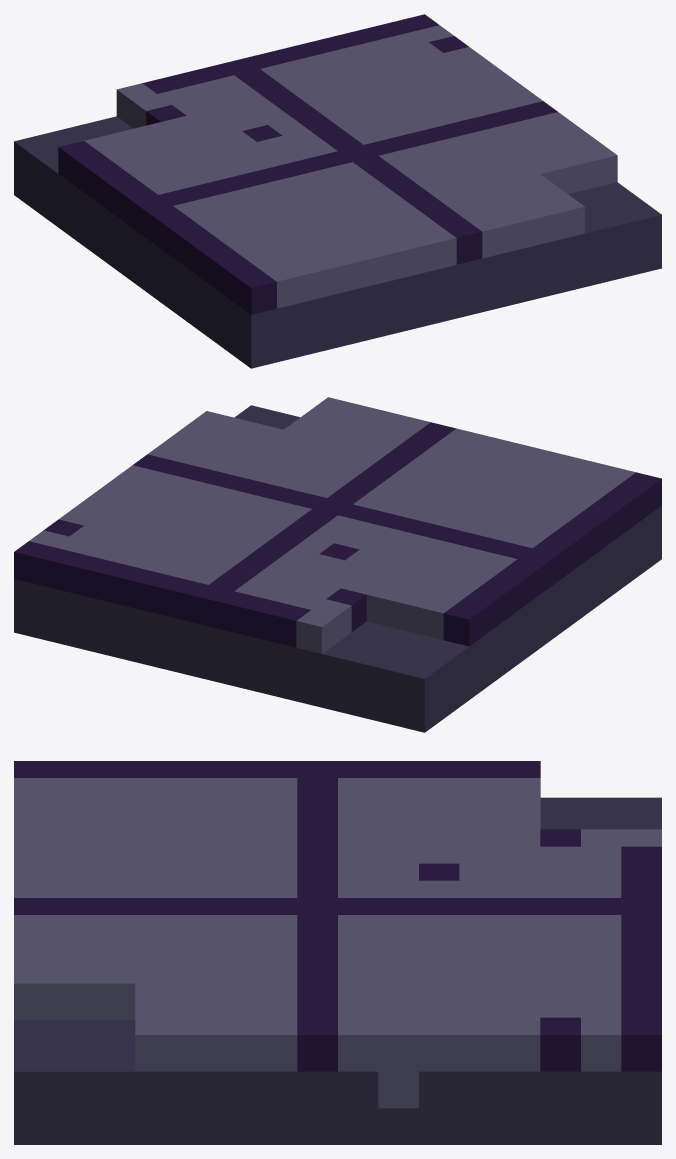
The model's file is floor_stone_worn_a.obj.
The picture shows the model from 3 angles, top to bottom: view 1: azimuth 30°, elevation 25°; view 2: azimuth 150°, elevation 25°; view 3: azimuth 270°, elevation 25°; orthographic projection. The views are drawn at different scales.
Parts seen in each view (by area): view 1: floor_stone_worn_a; view 2: floor_stone_worn_a; view 3: floor_stone_worn_a.
Boxes of the visible parts, bbox=[...] form: floor_stone_worn_a: bbox=[14, 14, 661, 368]; floor_stone_worn_a: bbox=[14, 397, 661, 732]; floor_stone_worn_a: bbox=[14, 761, 661, 1144].
Size of the model in its own units: 1 by 0.1875 by 1.
1 material, 1 textured.
